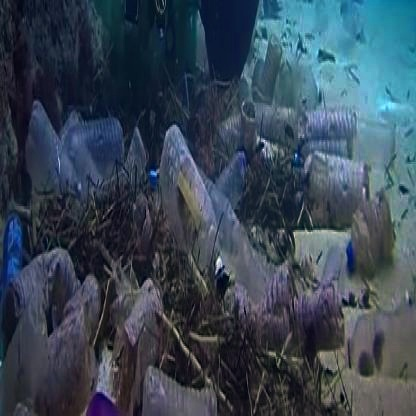pbottle: (148, 101, 236, 313), (16, 210, 103, 412), (44, 105, 151, 241), (217, 188, 300, 362), (111, 320, 211, 416), (274, 84, 362, 167), (308, 144, 370, 258), (339, 192, 401, 286)
